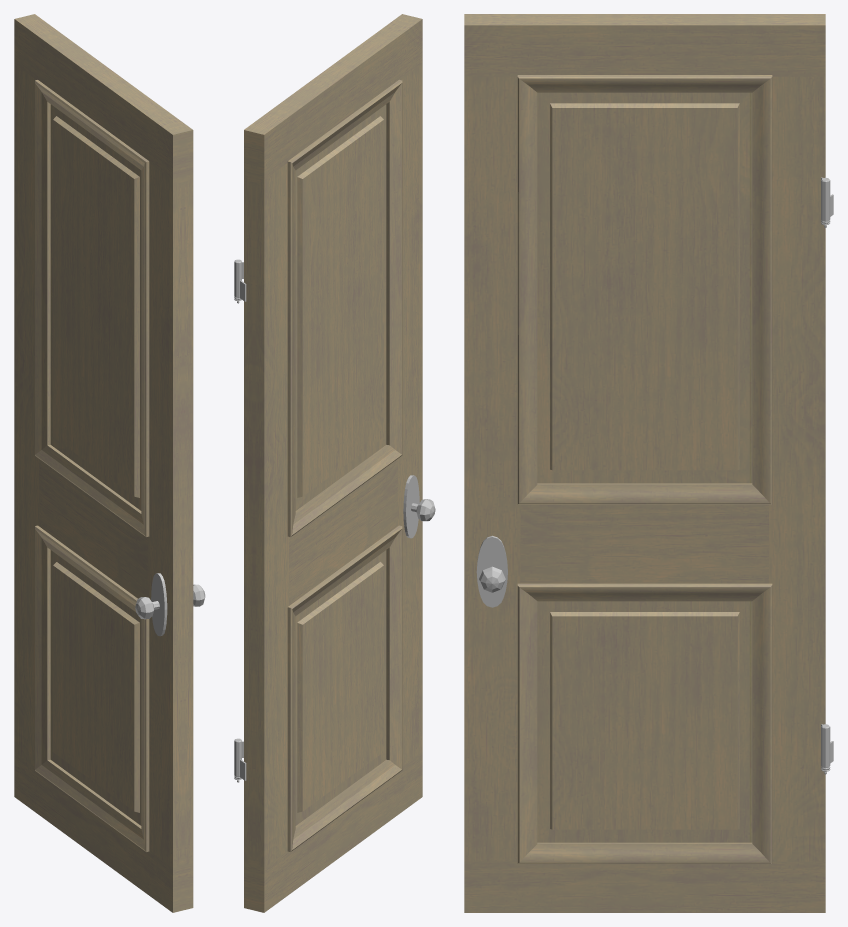
The model's file is SM_WallDoor03K.fbx.
The picture shows the model from 3 angles, left to right: view 1: azimuth 30°, elevation 25°; view 2: azimuth 150°, elevation 25°; view 3: azimuth 270°, elevation 25°; orthographic projection. The views are drawn at different scales.
Parts seen in each view (by area): view 1: SM_WallDoor03K; view 2: SM_WallDoor03K; view 3: SM_WallDoor03K.
Part boxes in pixels (<box>): SM_WallDoor03K: <box>14,14,205,912</box>; SM_WallDoor03K: <box>234,14,435,912</box>; SM_WallDoor03K: <box>464,14,833,912</box>.
Size of the model in its own units: 19.02 by 80.34 by 213.
